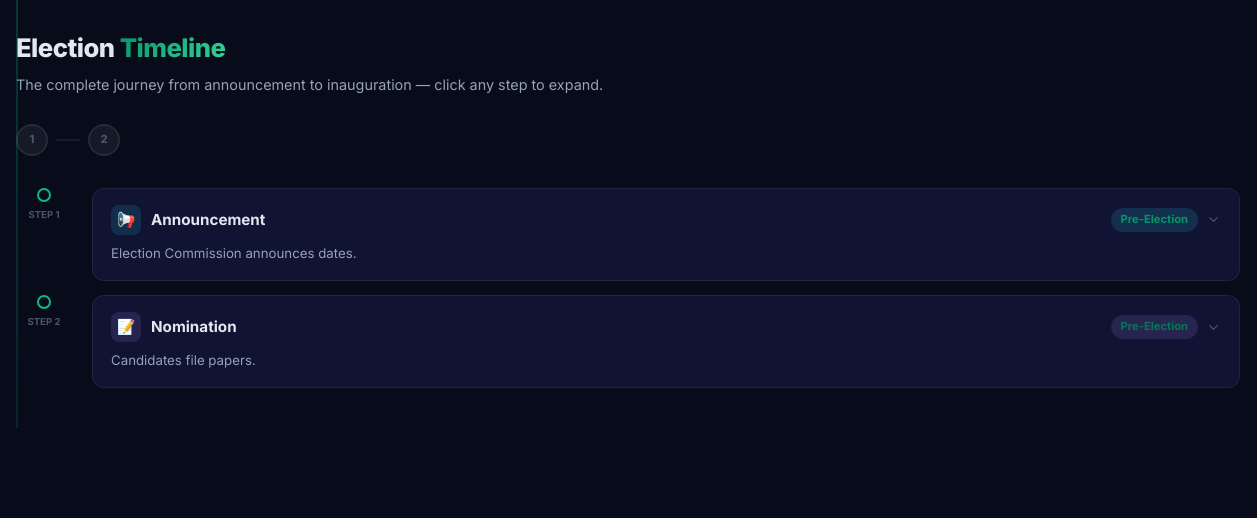
Timeline Page › expands step details on click
This screenshot has width=1257, height=518.
Click the text "Announcement" at (188, 220), box [111,205,265,235]
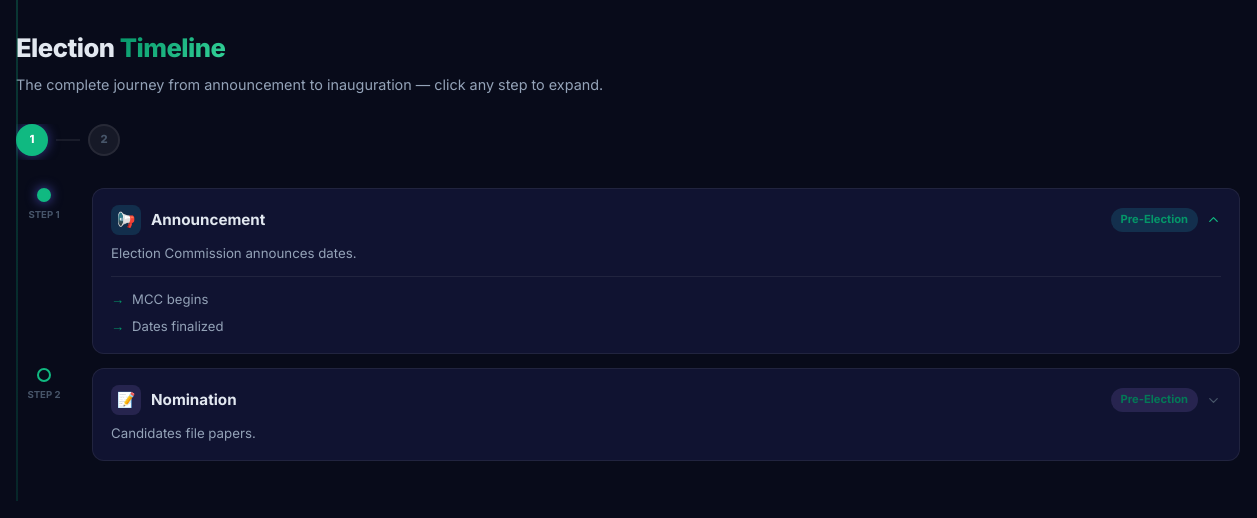
Result: the list item "MCC begins" is shown at [132,291,208,307]
